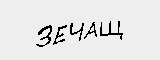А: (83, 21, 98, 40)
Е: (54, 23, 67, 44)
З: (34, 24, 51, 49)
Ч: (68, 21, 86, 42)
Щ: (98, 19, 124, 39)
